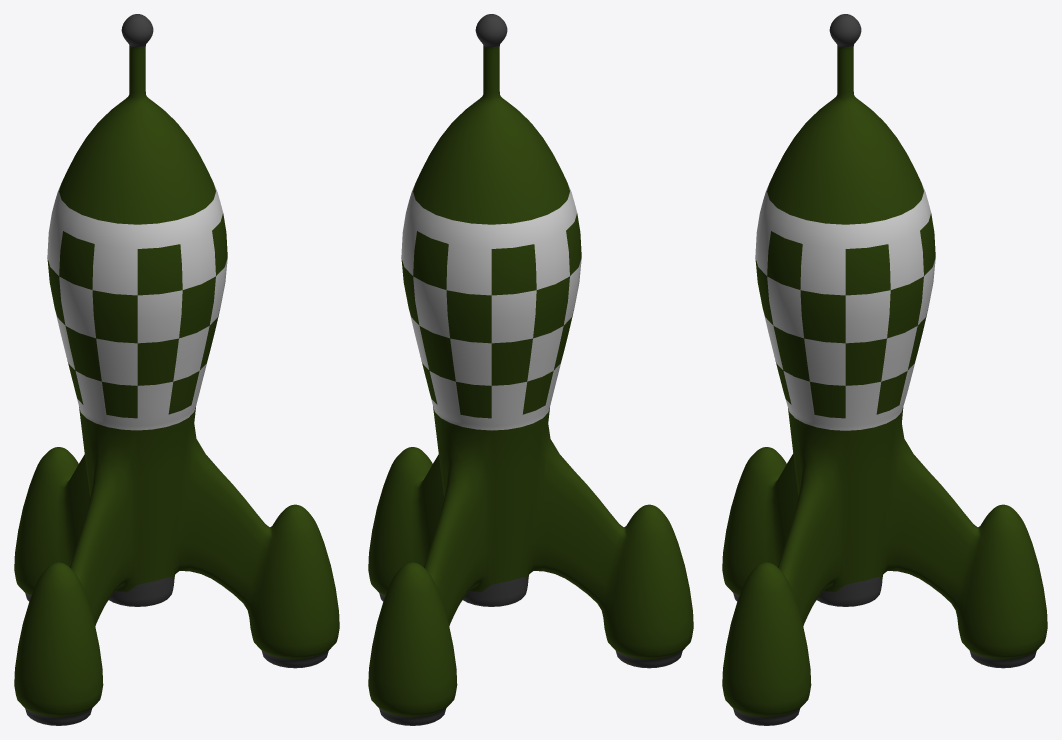
The model's file is RocketFusNew.obj.
3 renders of one model, left to right at view 1: azimuth 30°, elevation 25°; view 2: azimuth 150°, elevation 25°; view 3: azimuth 270°, elevation 25°, orthographic.
Bounding box in the file's own units: 1.86 × 3.62 × 1.67.
